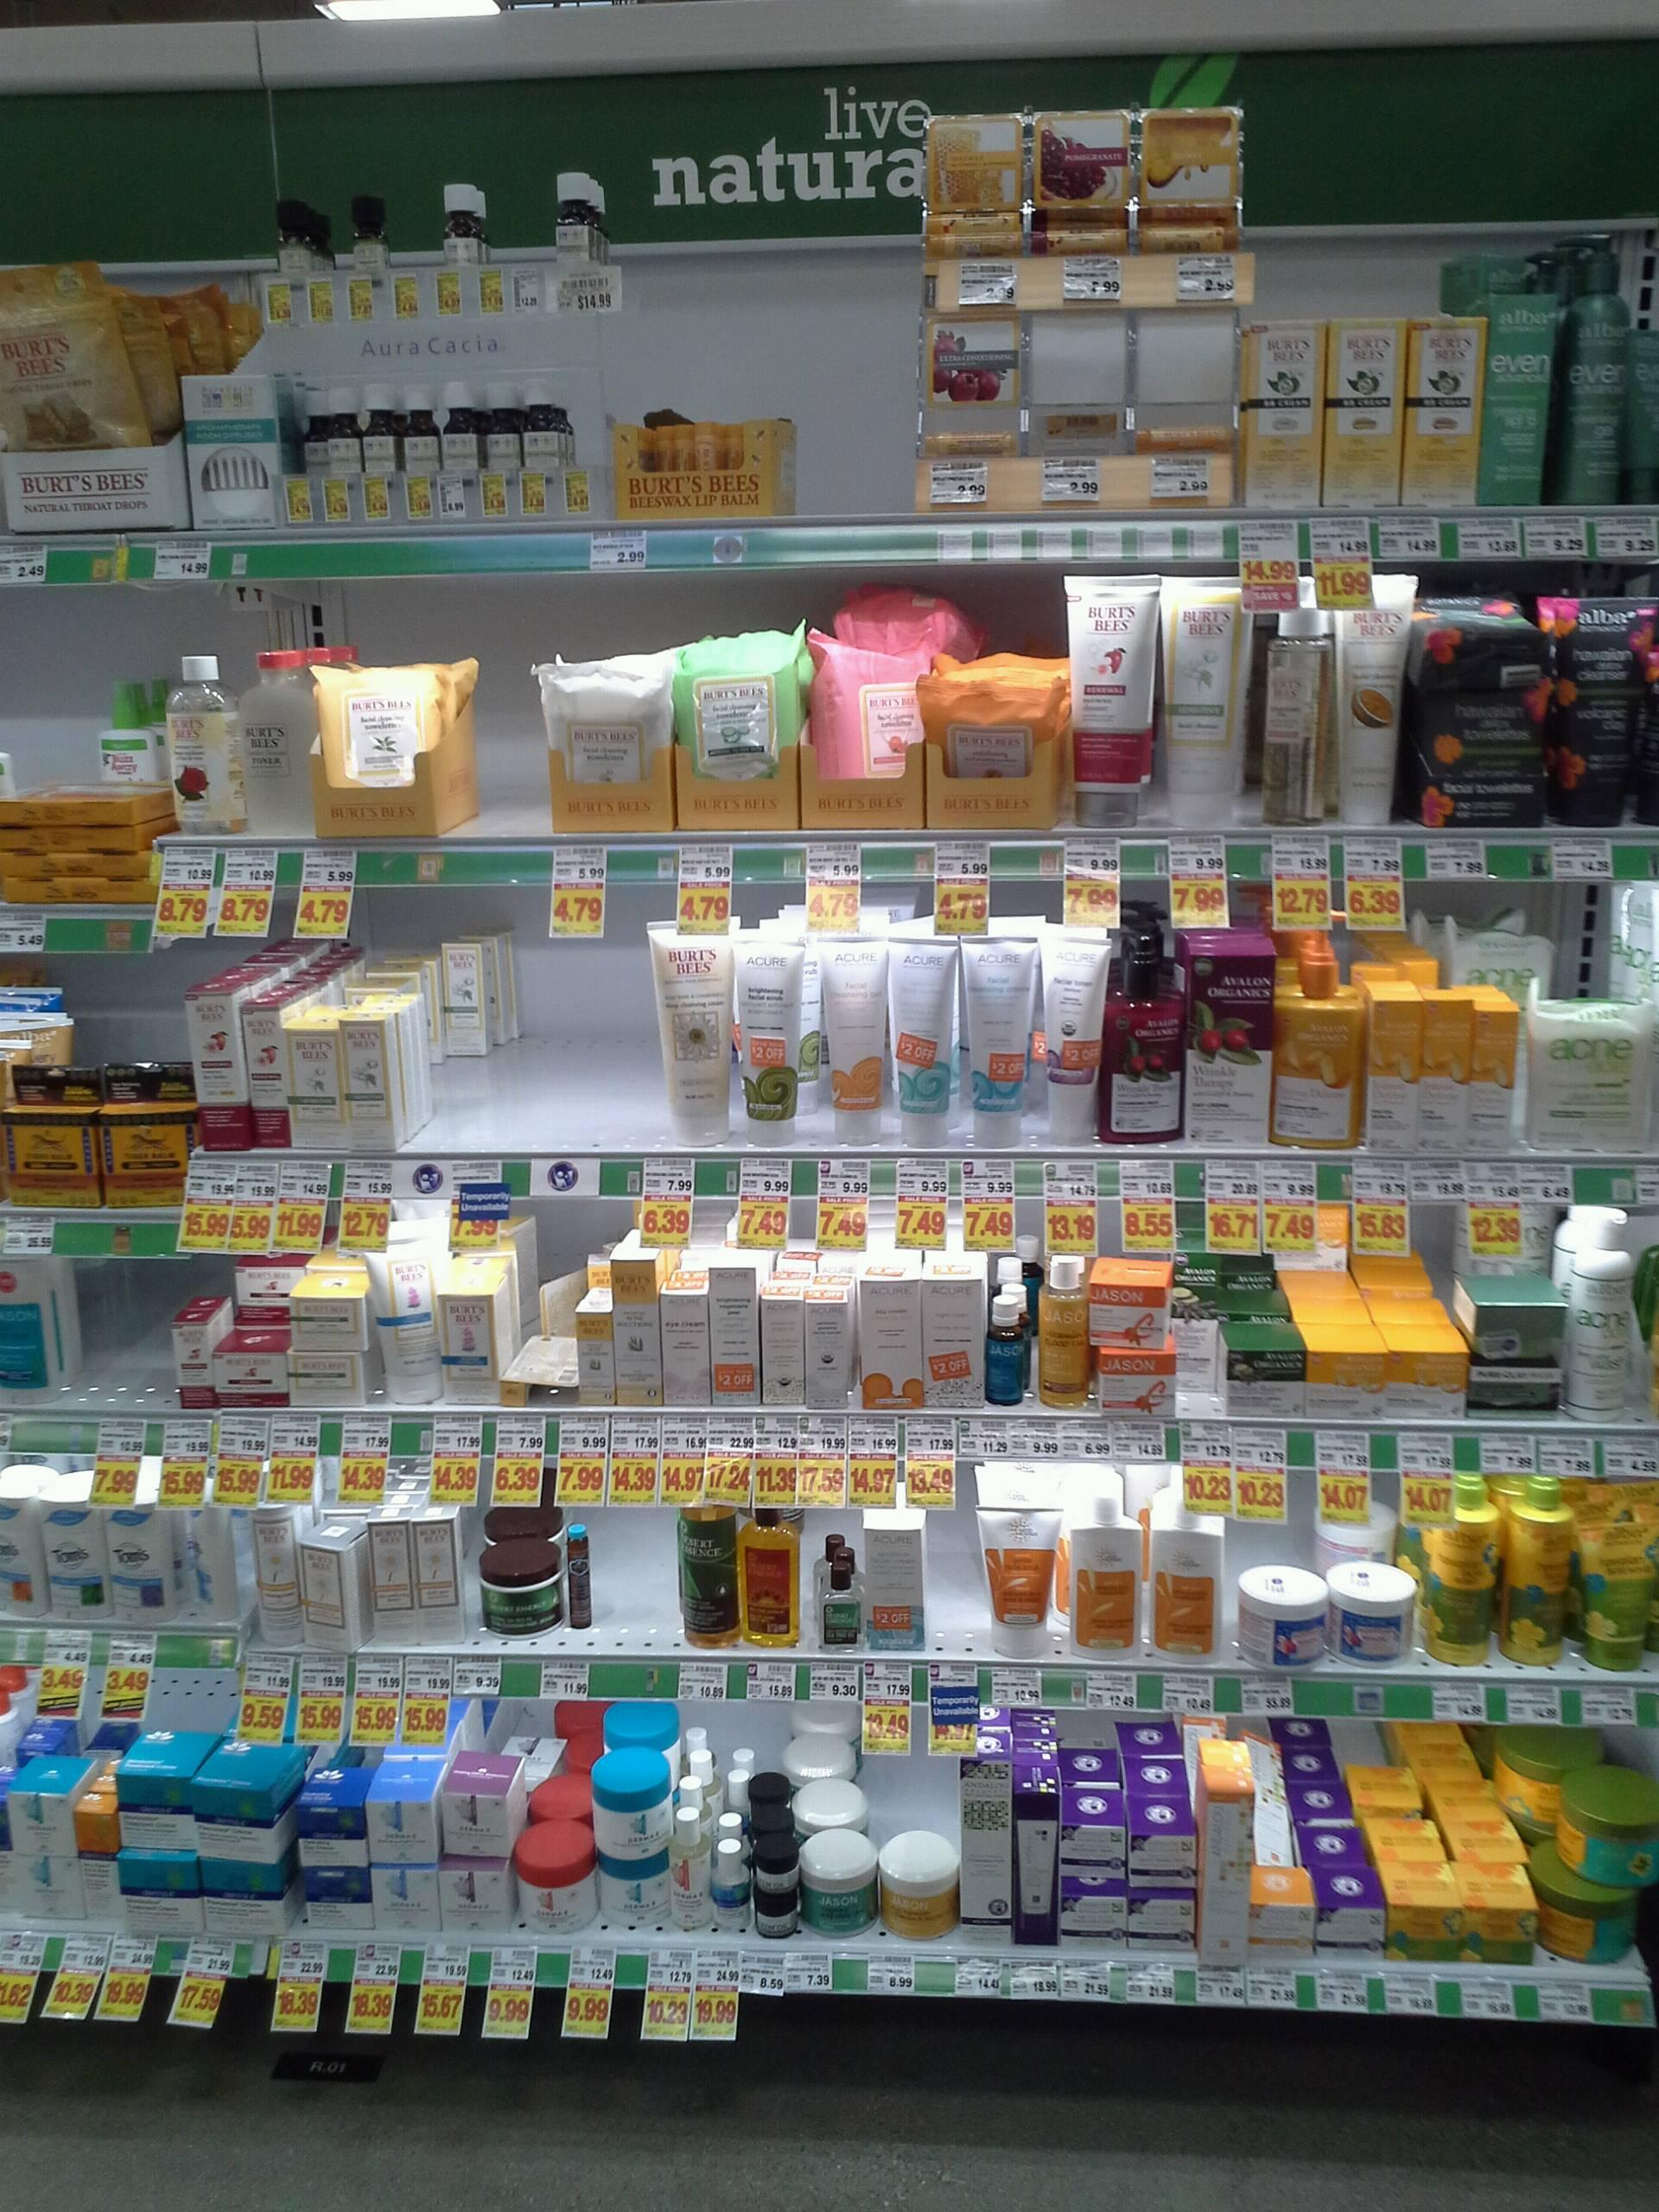empty: (530, 928, 652, 1137), (803, 348, 910, 517), (598, 1501, 676, 1644), (929, 1496, 976, 1651)
misalignment: (298, 1522, 378, 1658)
